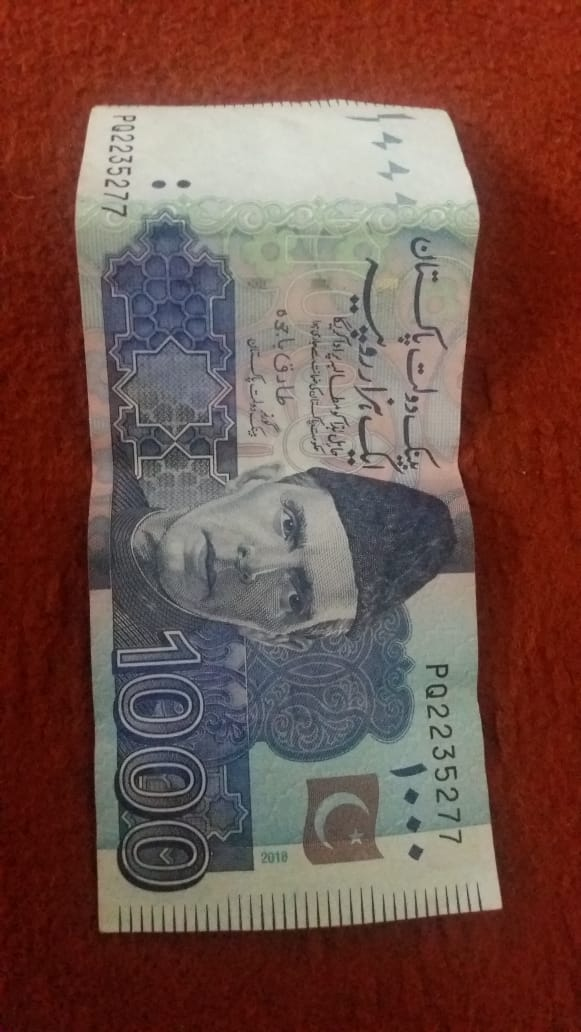1000 rupee: (38, 79, 534, 953)
